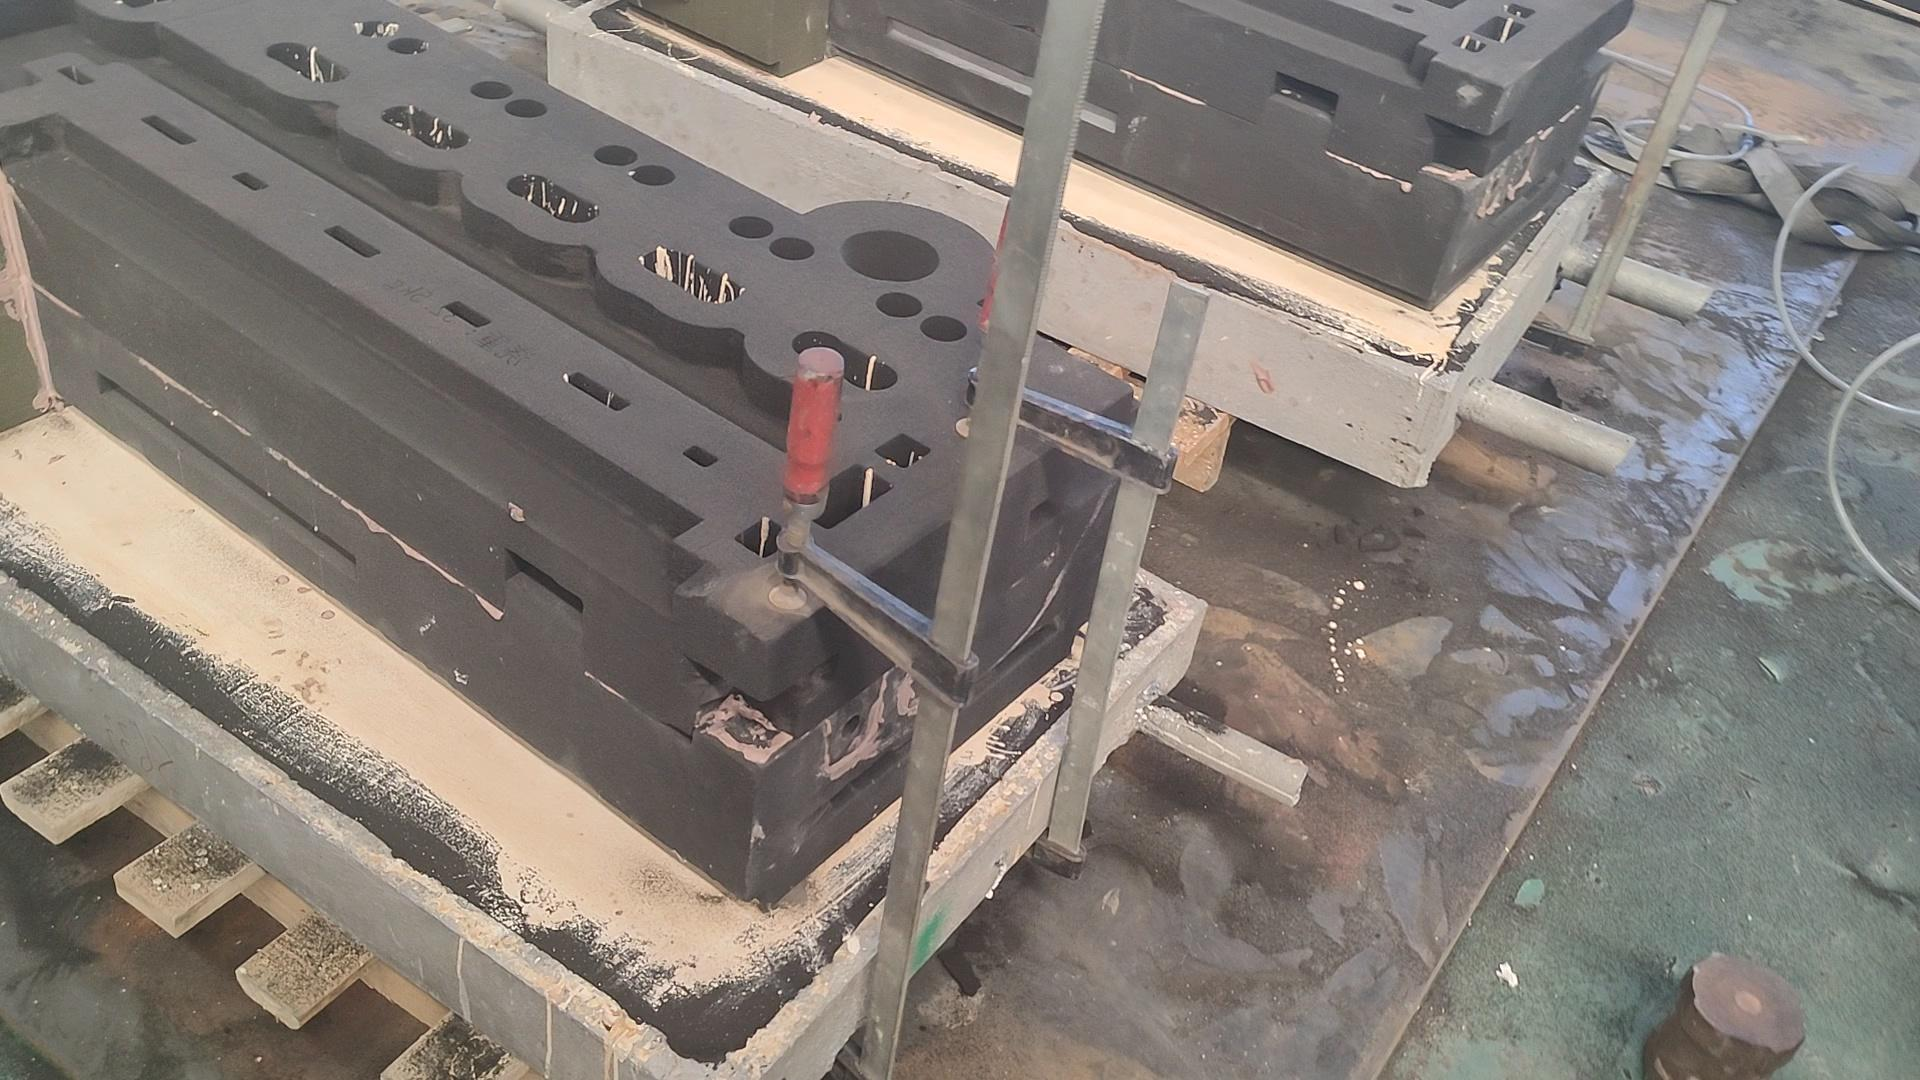pouring hole: (840, 229, 940, 280)
